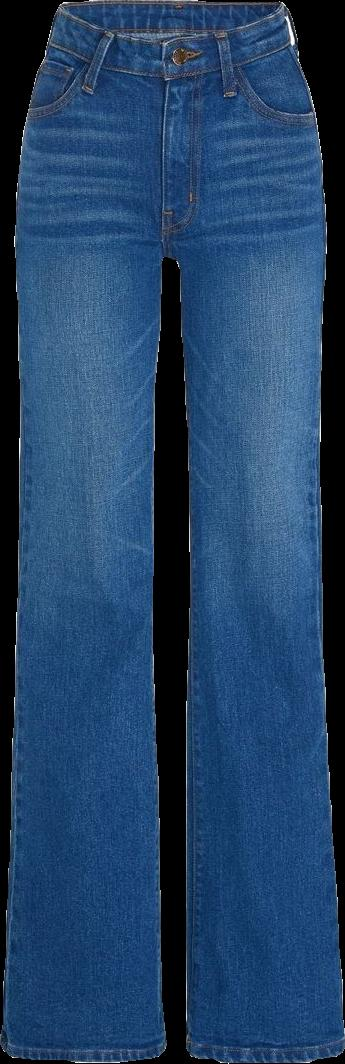Hemline: (0, 1040, 169, 1062), (187, 1042, 344, 1062)
Pantleg: (156, 1, 344, 1060), (0, 2, 166, 1060)
Waistline: (42, 32, 298, 76), (54, 0, 291, 44)
